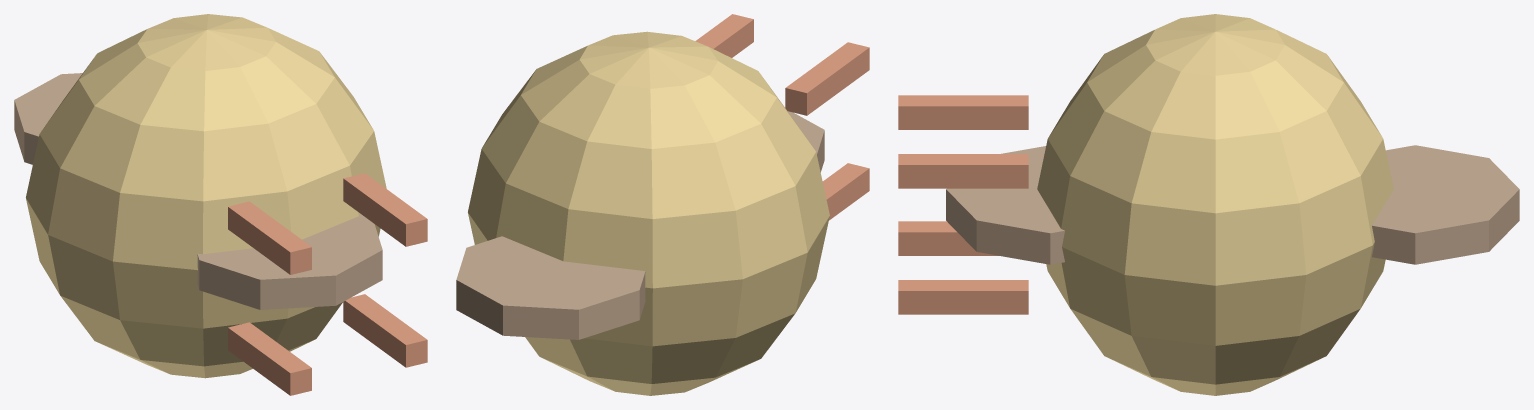
Rendered from lantern.glb.
3 views of the same model, side by side, from view 1: azimuth 30°, elevation 25°; view 2: azimuth 150°, elevation 25°; view 3: azimuth 270°, elevation 25° (orthographic). The views are drawn at different scales.
Visible parts, largest first — view 1: lantern_body, cap_bottom, tassel_0, tassel_2, tassel_1, tassel_3, cap_top; view 2: lantern_body, cap_top, tassel_1, tassel_3, tassel_0, cap_bottom; view 3: lantern_body, cap_top, cap_bottom, tassel_0, tassel_1, tassel_2, tassel_3.
Boxes of the visible parts, x1,y1,x2,y2 form: lantern_body: (26, 14, 386, 378); cap_bottom: (197, 214, 382, 309); tassel_0: (343, 173, 427, 246); tassel_2: (343, 294, 427, 367); tassel_1: (228, 201, 311, 274); tassel_3: (228, 322, 311, 395); cap_top: (14, 73, 82, 164); lantern_body: (468, 31, 829, 395); cap_top: (456, 236, 645, 339); tassel_1: (785, 42, 869, 115); tassel_3: (822, 163, 869, 220); tassel_0: (695, 14, 753, 57); cap_bottom: (788, 111, 824, 172); lantern_body: (1037, 14, 1393, 395); cap_top: (1372, 145, 1519, 264); cap_bottom: (946, 146, 1064, 264); tassel_0: (898, 154, 1028, 188); tassel_1: (898, 95, 1028, 129); tassel_2: (898, 280, 1028, 314); tassel_3: (898, 221, 998, 255).
Bounding box in the file's own units: 0.44 × 0.44 × 0.715.
